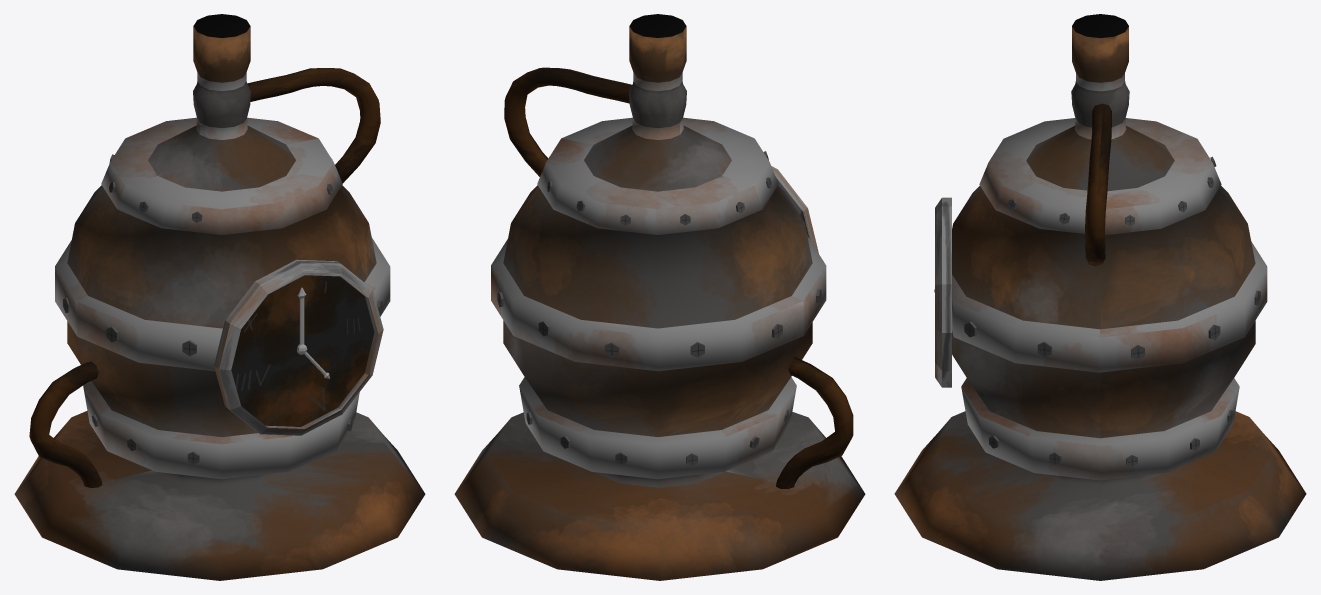
File: Maschine_One.fbx
3 renders of one model, left to right at view 1: azimuth 30°, elevation 25°; view 2: azimuth 150°, elevation 25°; view 3: azimuth 270°, elevation 25°, orthographic.
Visible parts, largest first — view 1: Base, Anzeige, Rohr, Rohr.001, Cylinder.002; view 2: Base, Rohr, Rohr.001, Cylinder.002, Anzeige; view 3: Base, Rohr, Anzeige, Cylinder.002.
Boxes of the visible parts, left/top/right/bottom form: Base: left=14, top=14, right=425, bottom=580; Anzeige: left=214, top=259, right=383, bottom=435; Rohr: left=247, top=68, right=380, bottom=183; Rohr.001: left=29, top=361, right=102, bottom=487; Cylinder.002: left=63, top=154, right=382, bottom=464; Base: left=454, top=14, right=865, bottom=580; Rohr: left=504, top=67, right=631, bottom=176; Rohr.001: left=776, top=357, right=853, bottom=488; Cylinder.002: left=497, top=151, right=821, bottom=466; Anzeige: left=771, top=166, right=818, bottom=253; Base: left=894, top=14, right=1306, bottom=580; Rohr: left=1085, top=103, right=1111, bottom=266; Anzeige: left=935, top=197, right=951, bottom=387; Cylinder.002: left=964, top=156, right=1260, bottom=467.
Bounding box in the file's own units: 551 × 667 × 532.
